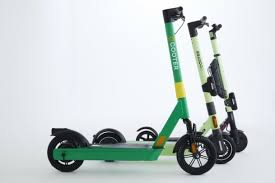kick_board: (46, 4, 216, 174)
kick_body: (87, 143, 157, 160)
kick_handler: (189, 17, 209, 37), (162, 6, 183, 22), (209, 22, 222, 37)
kick_neck: (213, 40, 246, 122), (165, 26, 187, 117), (191, 39, 213, 126)
kick_wheel: (174, 133, 216, 175), (48, 128, 83, 171), (93, 129, 125, 162), (210, 134, 235, 164), (231, 131, 247, 152)
